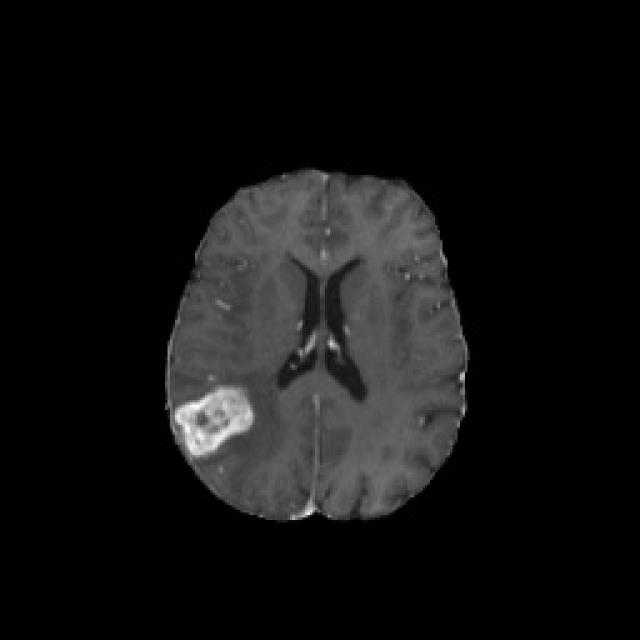positive: (175, 386, 255, 454)
